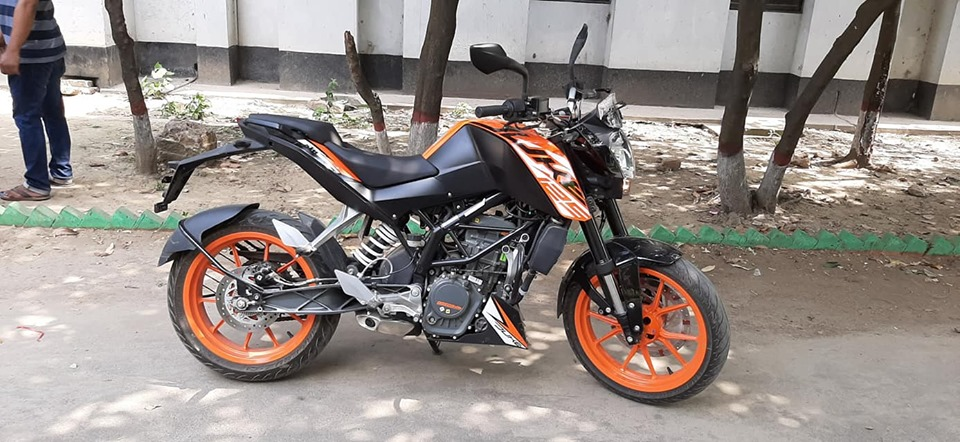bike: (148, 20, 731, 406)
